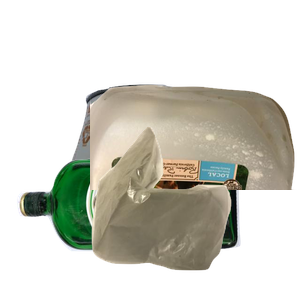glass: (14, 150, 247, 300)
metal: (60, 82, 300, 262)
plastic: (90, 82, 300, 262)
trash: (89, 124, 300, 300)
